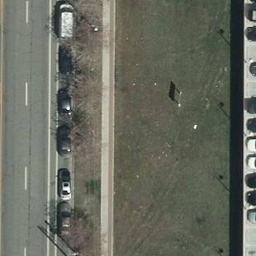car: (58, 203, 73, 239), (58, 169, 71, 200), (58, 124, 71, 155), (58, 91, 71, 122), (59, 44, 72, 75), (60, 5, 73, 36)
